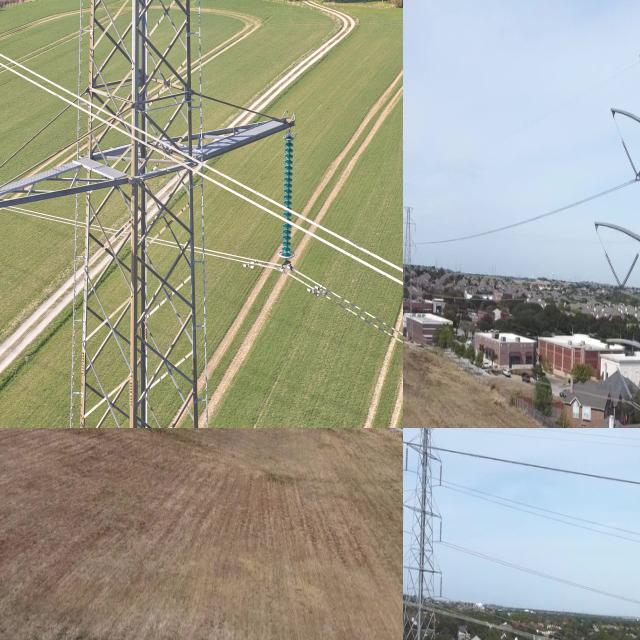杆塔: (63, 0, 215, 428), (403, 428, 450, 640), (403, 194, 417, 315)
正常电缆: (0, 39, 403, 302), (281, 260, 403, 356)
正常绝缘子: (277, 129, 299, 276), (617, 250, 640, 296), (619, 137, 640, 182), (603, 251, 624, 296), (614, 362, 635, 404), (436, 446, 448, 497), (434, 512, 448, 553), (436, 572, 450, 606), (629, 377, 640, 407), (403, 444, 412, 475), (403, 497, 409, 539), (634, 165, 640, 183)
